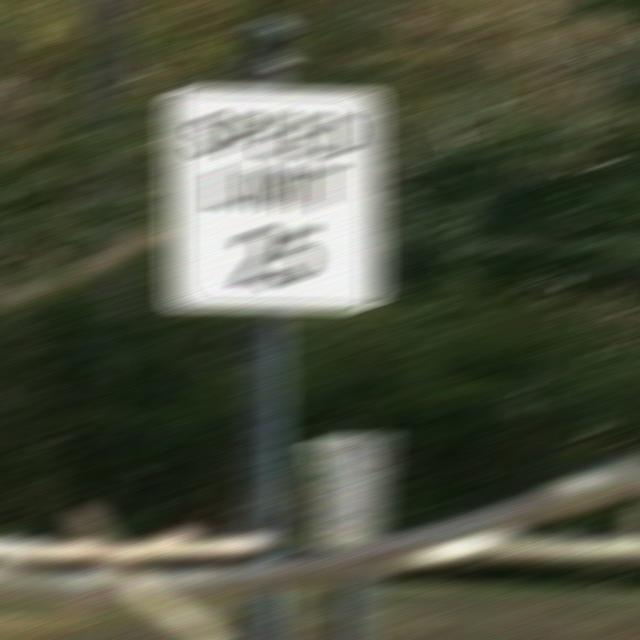speedLimit25: (162, 104, 394, 312)
